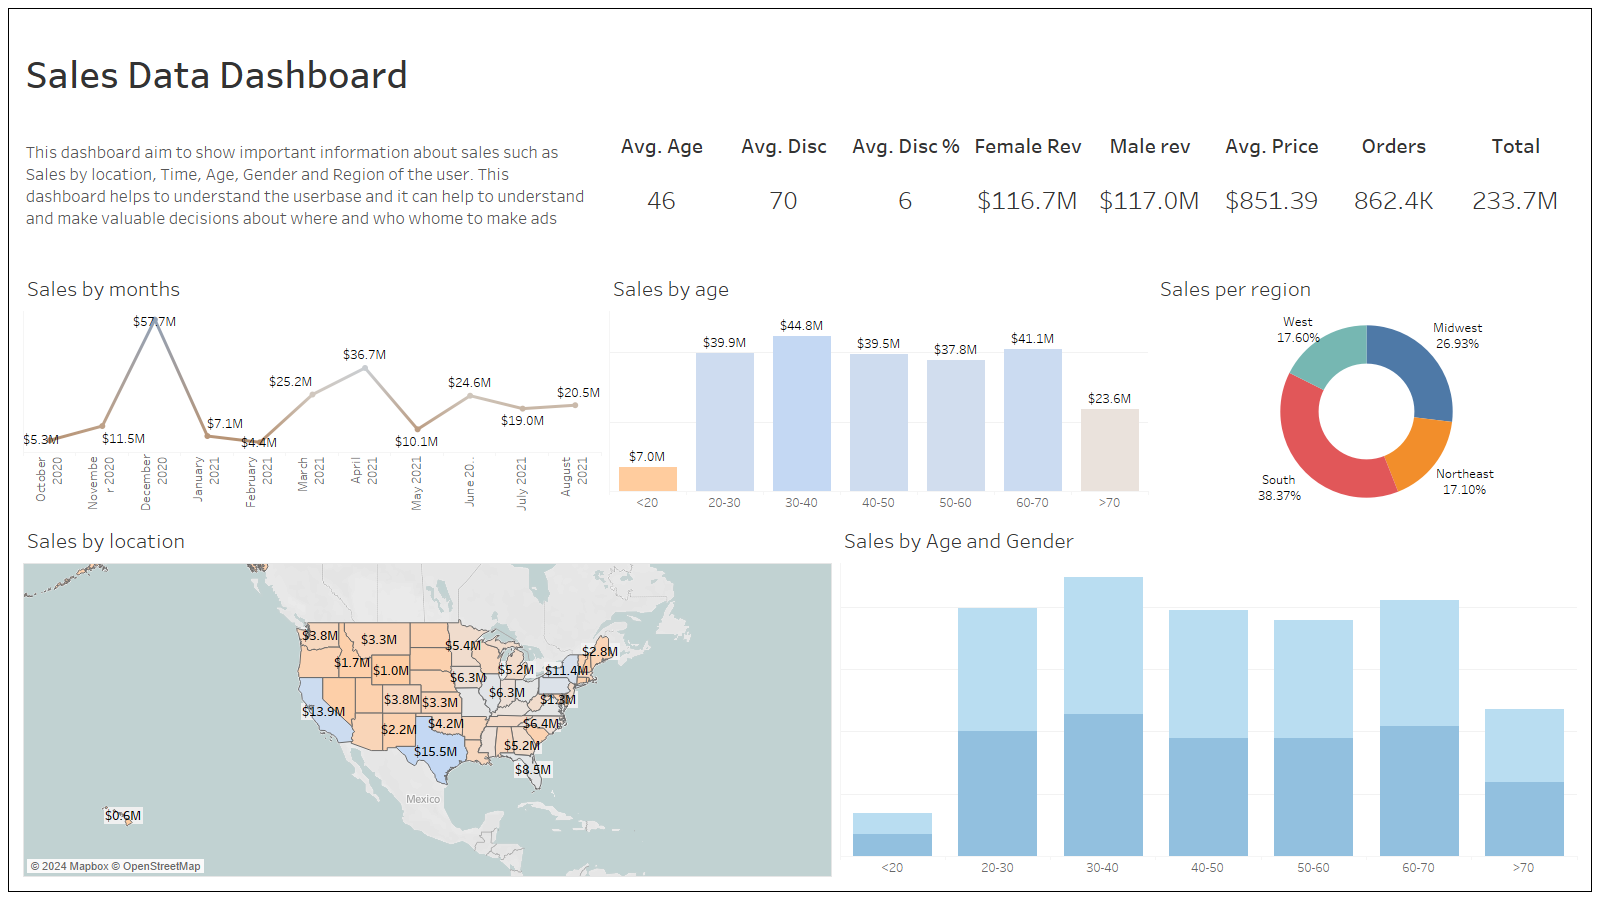

This screenshot's page, from the dashboard's own definition file:
{"tool":"tableau","page":{"name":"Dashboard 1","canvas":[1600,900],"ordinal":0},"visuals":[{"type":"text","box":[19,19,781,108]},{"type":"blank","box":[800,19,781,108]},{"type":"text","box":[19,127,578,118]},{"type":"worksheet","title":"Sheet 7","mark":"Automatic","box":[597,127,984,118]},{"type":"worksheet","title":"Sales by months","mark":"Automatic","rows":["total"],"cols":["month"],"box":[19,264,586,252]},{"type":"worksheet","title":"Sales by age","mark":"Automatic","rows":["total"],"cols":["Age (bin)"],"box":[605,264,547,252]},{"type":"worksheet","title":"Sales per region","mark":"Pie","rows":["Calculation_1662954228715921408","Calculation_1662954228715921408"],"box":[1152,264,429,252]},{"type":"worksheet","title":"Sales by location","mark":"Automatic","box":[19,516,817,365]},{"type":"worksheet","title":"Sales by Age and Gender","mark":"Automatic","rows":["total"],"cols":["Age (bin)"],"box":[836,516,744.9,365]}]}

Visuals, with their boxes in screenshot pixels (x1, y1, x2, y2), scaled from the page's 1600x900 canvas onto the 1600x900 screenshot:
text: x1=19 y1=19 x2=800 y2=127
blank: x1=800 y1=19 x2=1581 y2=127
text: x1=19 y1=127 x2=597 y2=245
"Sheet 7" worksheet: x1=597 y1=127 x2=1581 y2=245
"Sales by months" worksheet: x1=19 y1=264 x2=605 y2=516
"Sales by age" worksheet: x1=605 y1=264 x2=1152 y2=516
"Sales per region" worksheet (Pie marks): x1=1152 y1=264 x2=1581 y2=516
"Sales by location" worksheet: x1=19 y1=516 x2=836 y2=881
"Sales by Age and Gender" worksheet: x1=836 y1=516 x2=1581 y2=881
